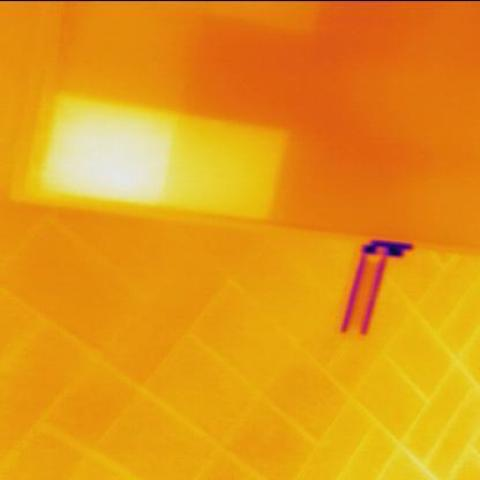fault: (53, 106, 172, 203), (176, 121, 267, 199)
